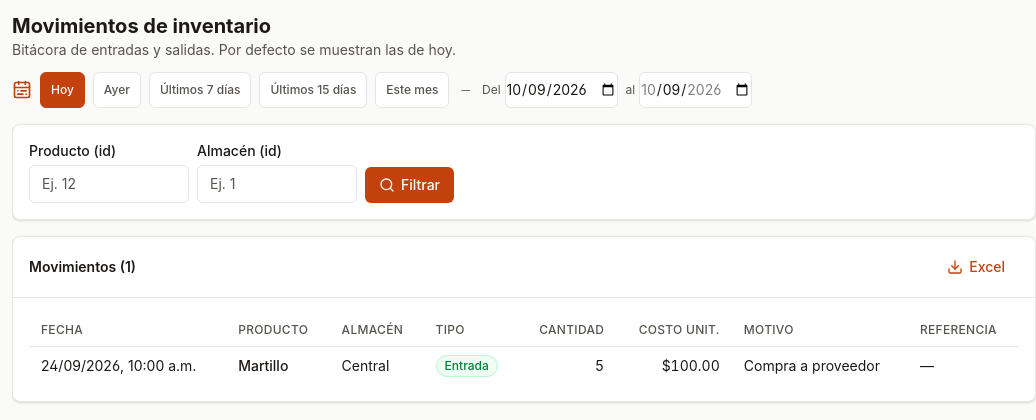
Scenario: MovimientosPage (smoke) › aplicar filtro por producto muestra el badge de filtros activos
Expected: the text "Martillo" is shown, [238,357,288,374]
Step 1. Type "1" into the field labelled "Producto (id)" → (109, 184), box [29,165,189,203]
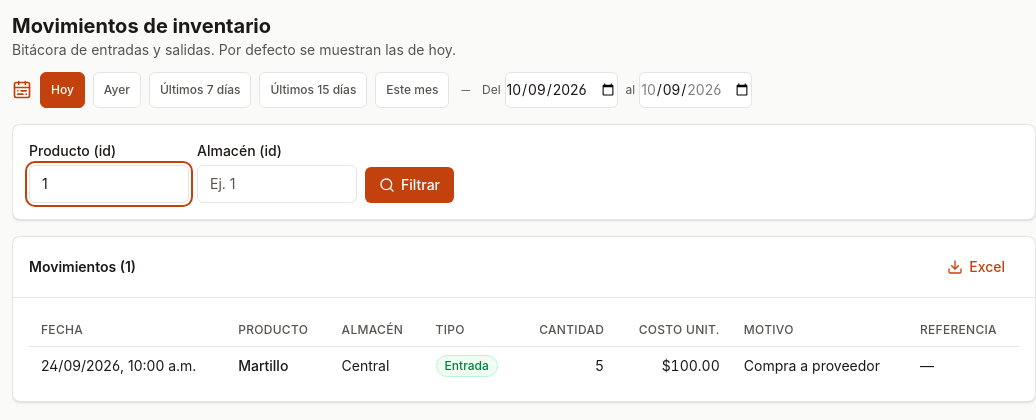
Step 2. Click the button "Filtrar" → (410, 185), box [365,167,454,203]
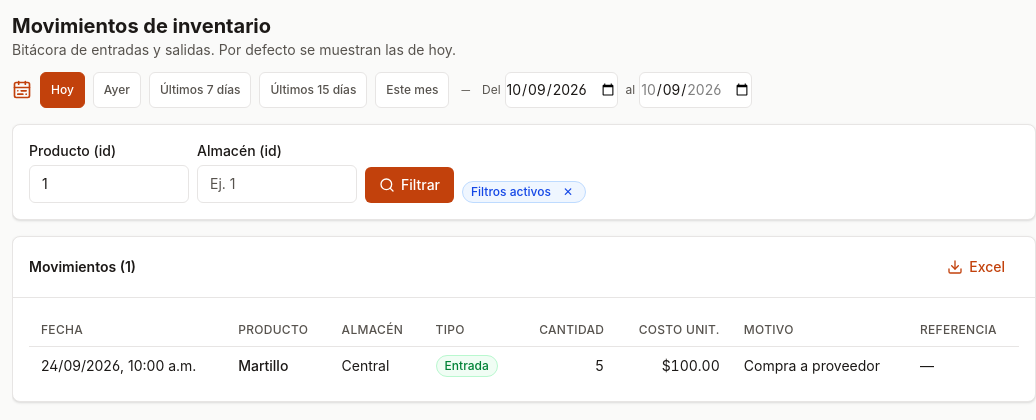
Expected: the text "Filtros activos" is shown, [471,184,551,199]
